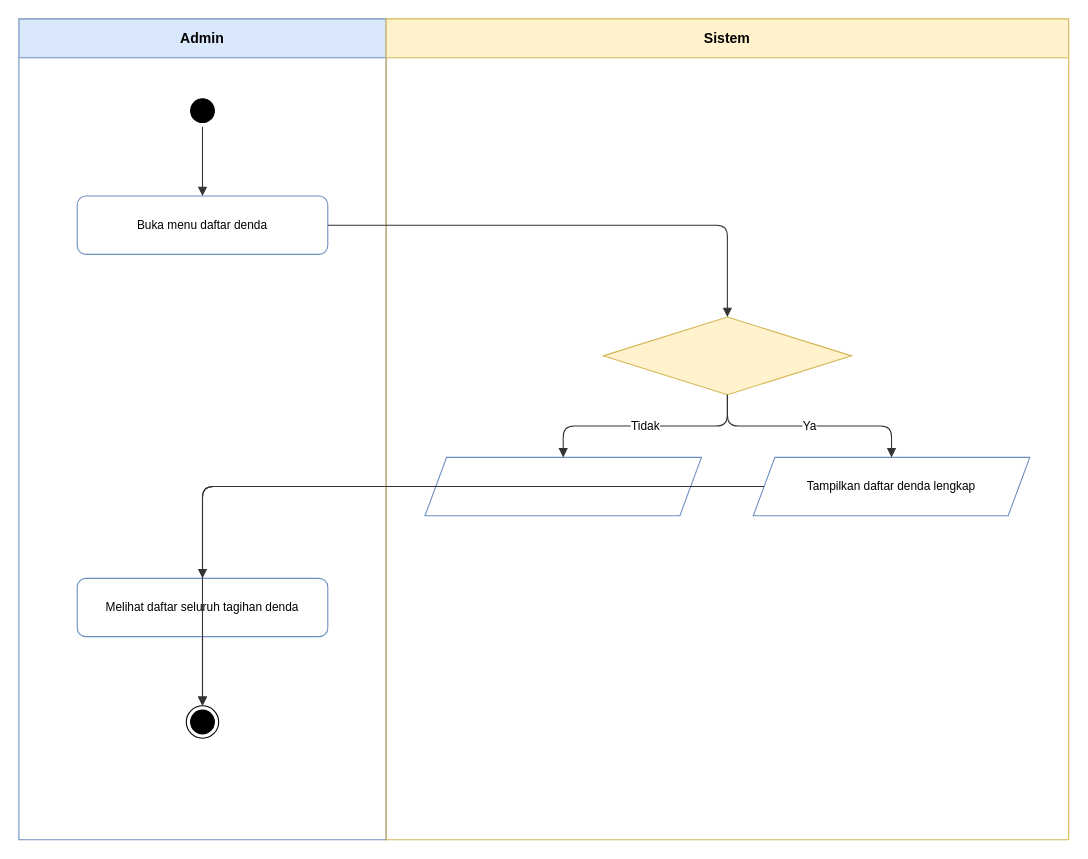
Some shapes in this 1088 by 859 pixel diagram are drawn without their labels. The shapes that lost their labels are listed below. From the top down, each one's centre as x and y in pixels, then its label:
At [727,355]: "Apakah ada catatan denda yang tersimpan?".
At [562,486]: "Tampilkan pesan belum ada catatan denda".
